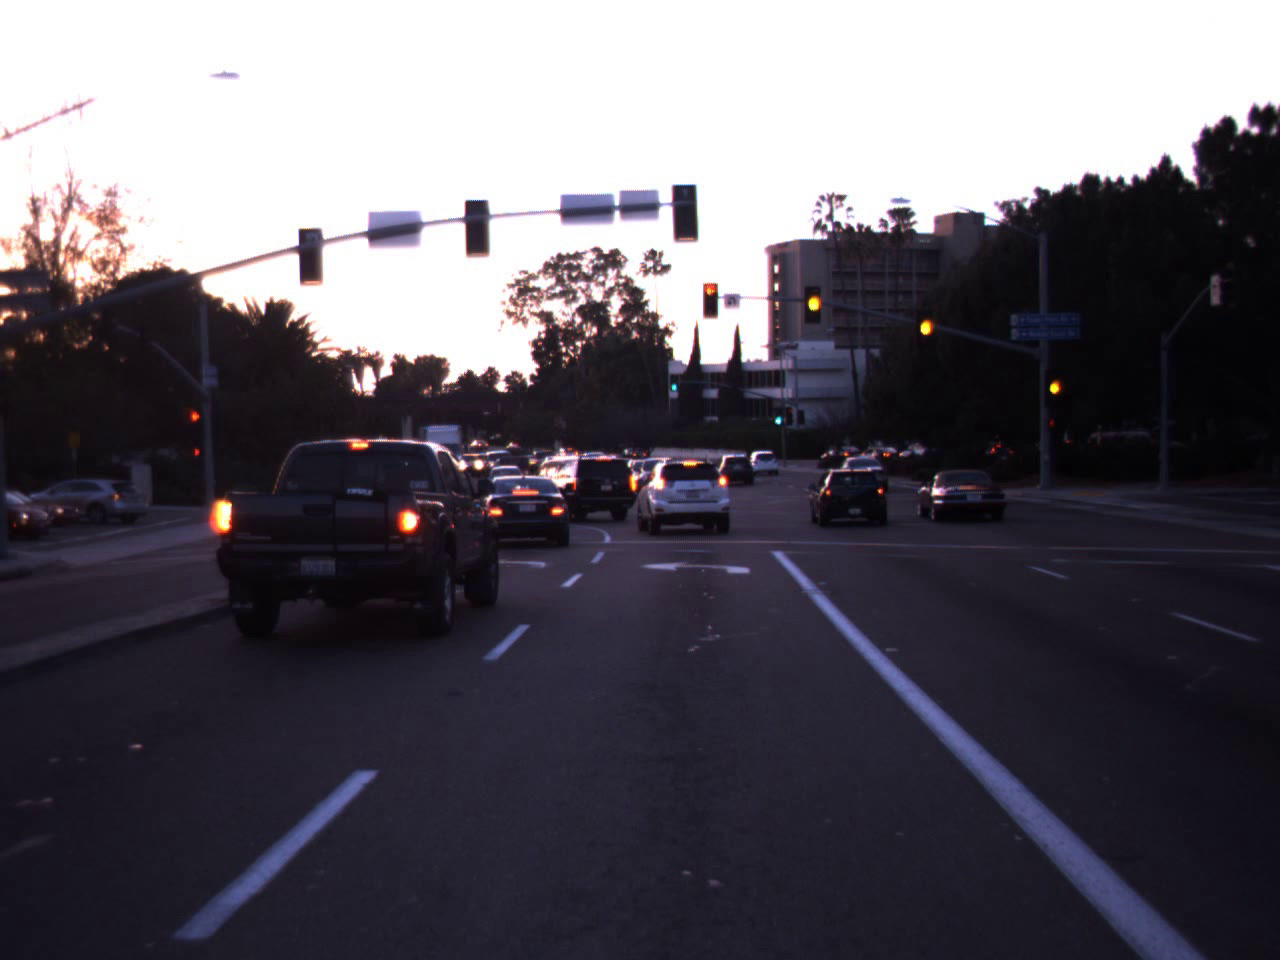go: (767, 392, 788, 427), (668, 367, 680, 392)
stop: (692, 279, 728, 324), (185, 409, 206, 440)
warning: (799, 274, 829, 328), (912, 298, 939, 352), (1044, 366, 1065, 406)
